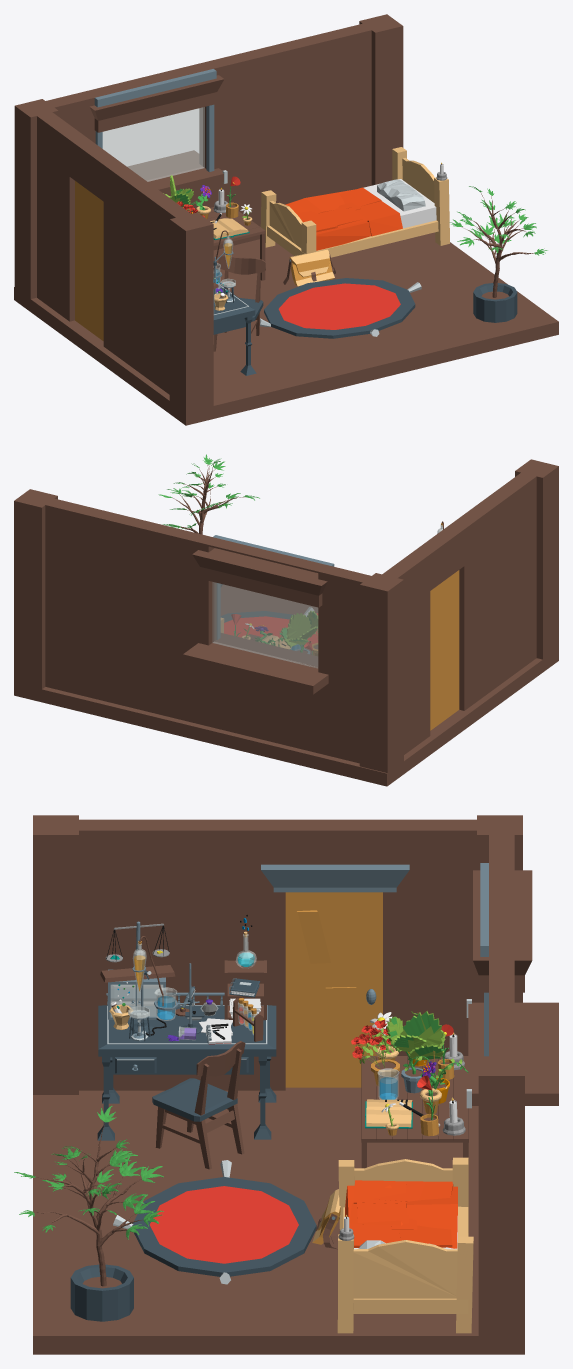
The model's file is HouseInterior.glb.
3 views of the same model, one above another, from view 1: azimuth 30°, elevation 25°; view 2: azimuth 150°, elevation 25°; view 3: azimuth 270°, elevation 25° (orthographic). The views are drawn at different scales.
Parts seen in each view (by area): view 1: group1848406376, group522354098, group1129893481, group369302651, group698135122, group1638864171, group1667670257, group2061576160, group1936619718, group1500898694, group847735376, group1796009582 (+20 smaller); view 2: group522354098, group1991707696, group1129893481, group1848406376, group1936619718, group1667670257, group2061576160, group698135122, group937481734, group369302651, group847735376, group1500898694 (+5 smaller); view 3: group1848406376, group1129893481, group698135122, group357374762, group1500898694, group1638864171, group1796009582, group2061576160, group369302651, group116321543, group937481734, group1945776596 (+23 smaller).
Boxes of the visible parts, x1,y1,x2,y2 form: group1848406376: [14, 232, 558, 425]; group522354098: [199, 23, 371, 250]; group1129893481: [103, 161, 191, 394]; group369302651: [169, 212, 213, 412]; group698135122: [37, 112, 84, 321]; group1638864171: [264, 278, 415, 338]; group1667670257: [102, 107, 204, 181]; group2061576160: [359, 14, 403, 185]; group1936619718: [14, 99, 58, 298]; group1500898694: [75, 181, 103, 340]; group847735376: [90, 75, 224, 132]; group1796009582: [163, 175, 265, 280]; group522354098: [45, 498, 217, 726]; group1991707696: [208, 538, 370, 763]; group1129893481: [449, 472, 536, 710]; group1848406376: [14, 584, 558, 786]; group1936619718: [359, 573, 403, 772]; group1667670257: [212, 582, 318, 668]; group2061576160: [14, 489, 57, 689]; group698135122: [382, 550, 430, 754]; group937481734: [183, 633, 328, 694]; group369302651: [515, 459, 558, 659]; group847735376: [192, 548, 327, 607]; group1500898694: [430, 570, 459, 730]; group1848406376: [33, 1087, 524, 1354]; group1129893481: [77, 819, 285, 1090]; group698135122: [383, 819, 476, 1056]; group357374762: [97, 914, 276, 1140]; group1500898694: [285, 892, 382, 1087]; group1638864171: [132, 1177, 316, 1276]; group1796009582: [351, 1011, 468, 1168]; group2061576160: [478, 1056, 524, 1335]; group369302651: [33, 815, 78, 1094]; group116321543: [353, 1240, 457, 1298]; group937481734: [468, 1002, 558, 1105]; group1945776596: [152, 1041, 245, 1169].
Bounding box in the file's own units: 3.61 × 1.85 × 3.19.
